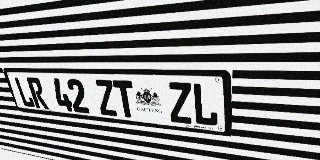2: (66, 79, 90, 113)
4: (50, 78, 74, 112)
L: (192, 83, 218, 127), (13, 77, 36, 108)
R: (26, 77, 49, 109)
T: (112, 80, 137, 118)
Z: (167, 82, 193, 124), (94, 80, 118, 116)
